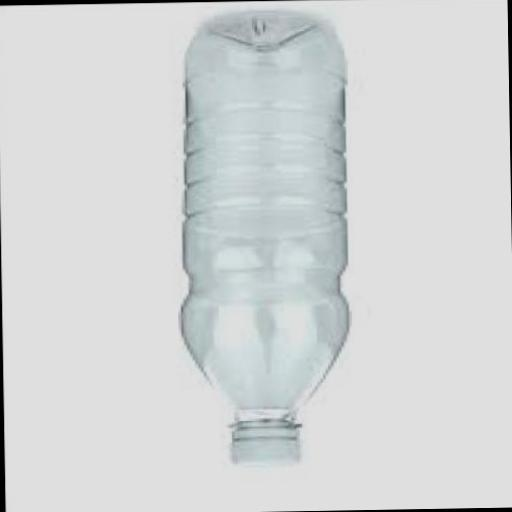plastic: (169, 10, 353, 469), (223, 424, 294, 466)
